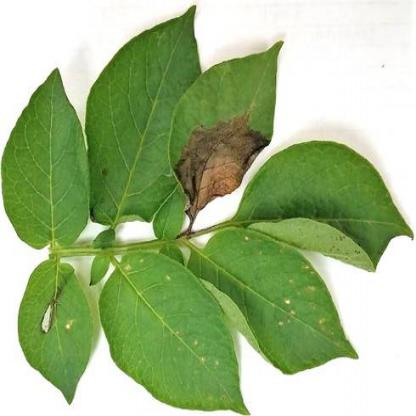potato leaf late blight: (165, 37, 288, 221)
